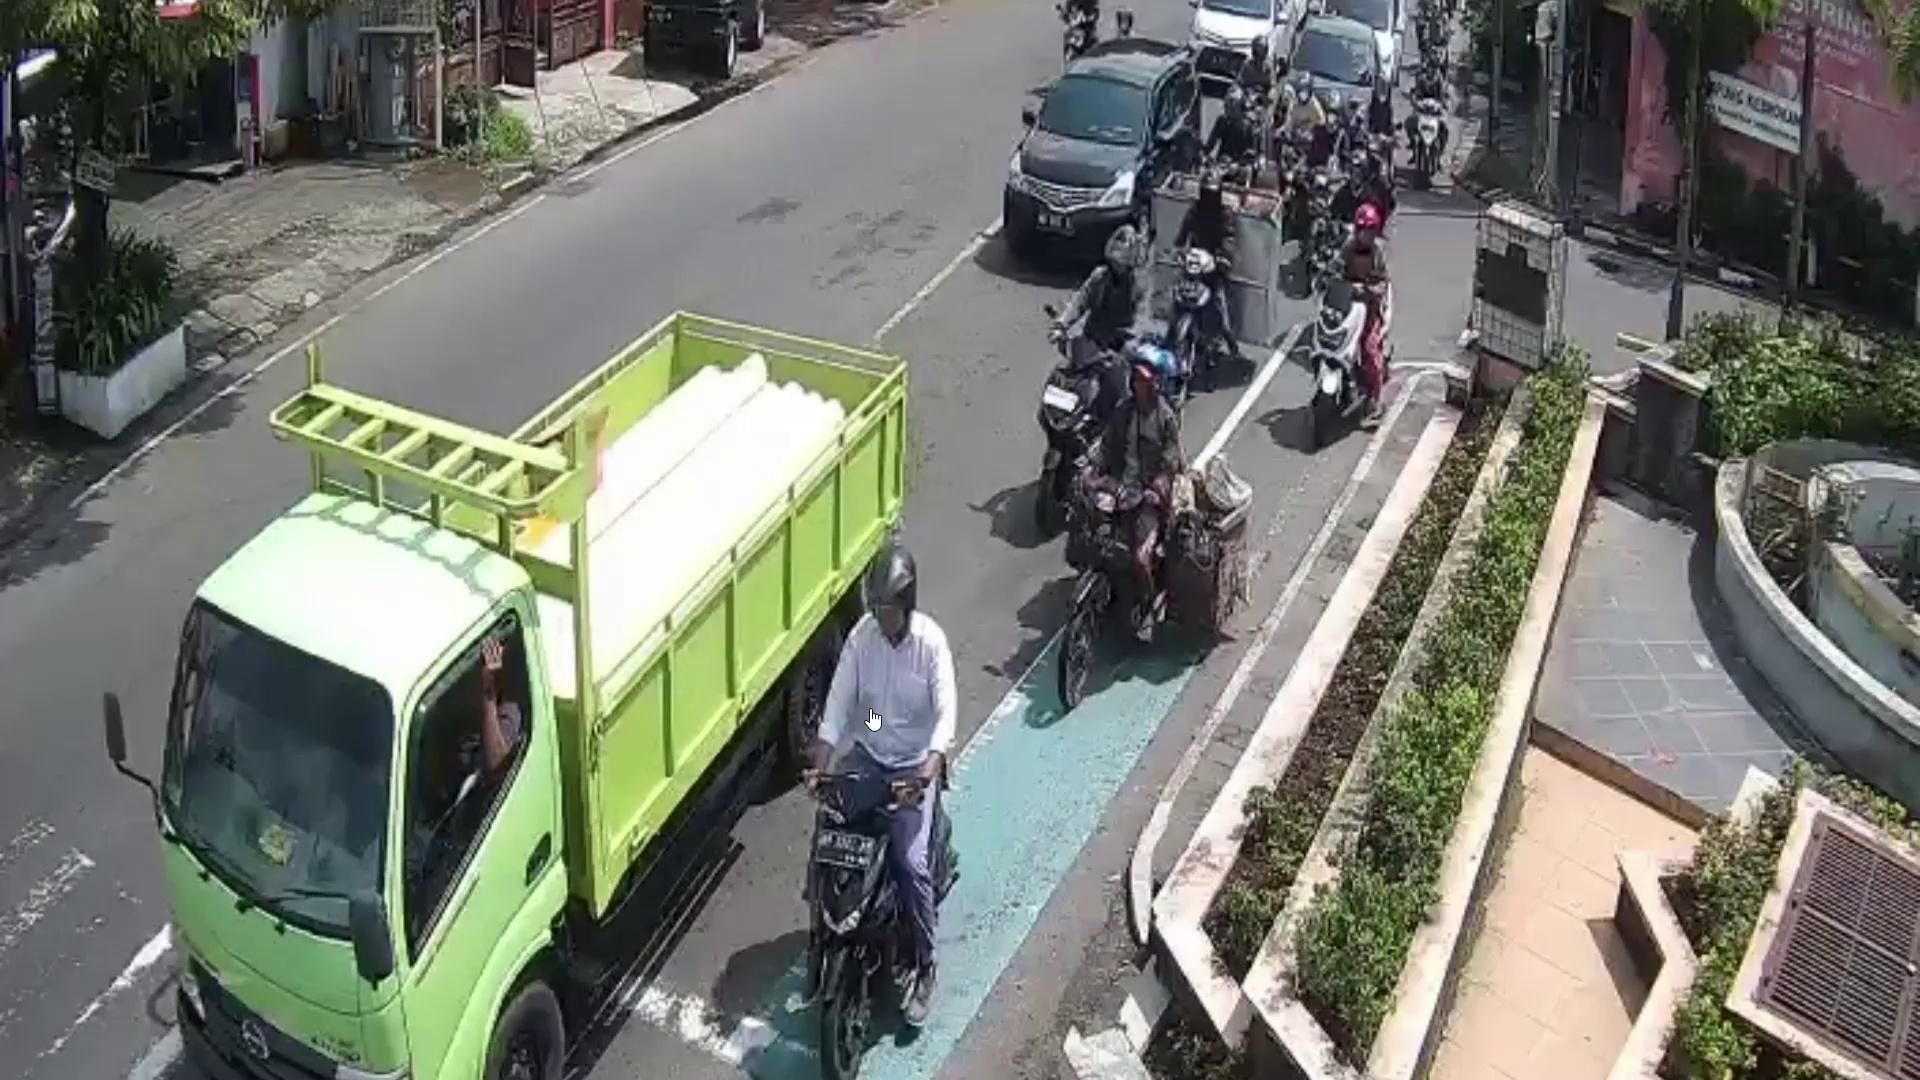car: (1004, 37, 1205, 272), (1280, 18, 1382, 165), (1196, 0, 1311, 94)
motorbike: (806, 753, 957, 1080), (1052, 472, 1145, 703), (1027, 324, 1124, 533), (1313, 278, 1395, 436), (1167, 247, 1229, 397), (1406, 100, 1451, 194)
truck: (170, 307, 910, 1080)
